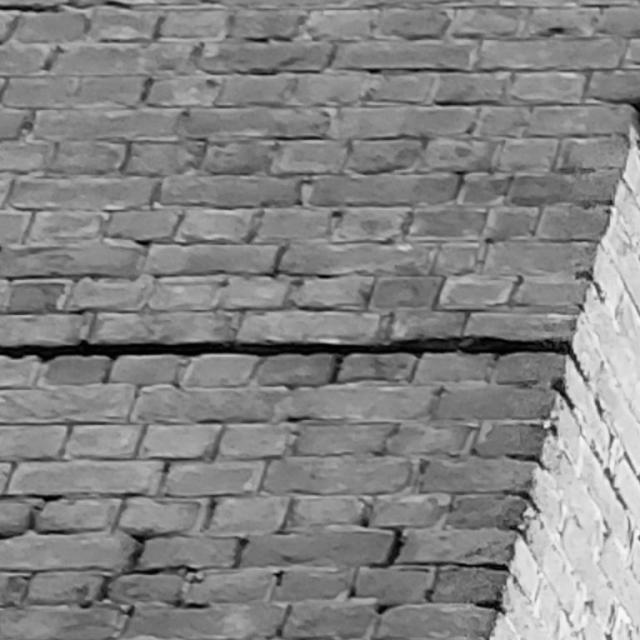crack: (1, 333, 586, 381)
